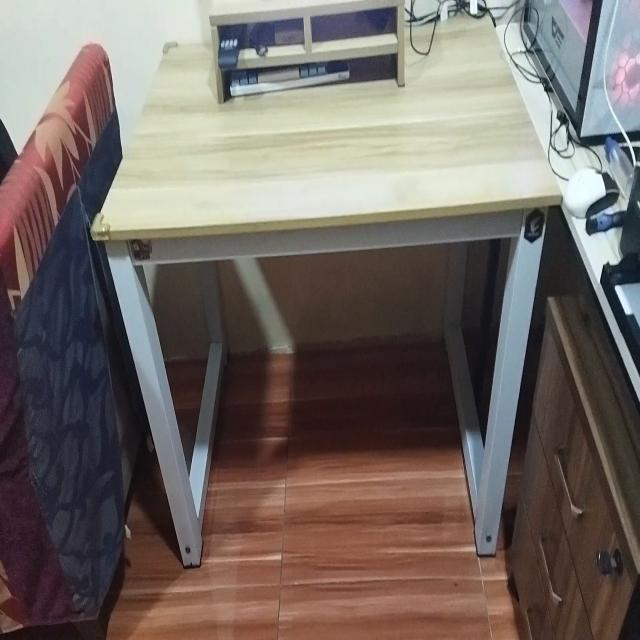table: (109, 15, 552, 578)
